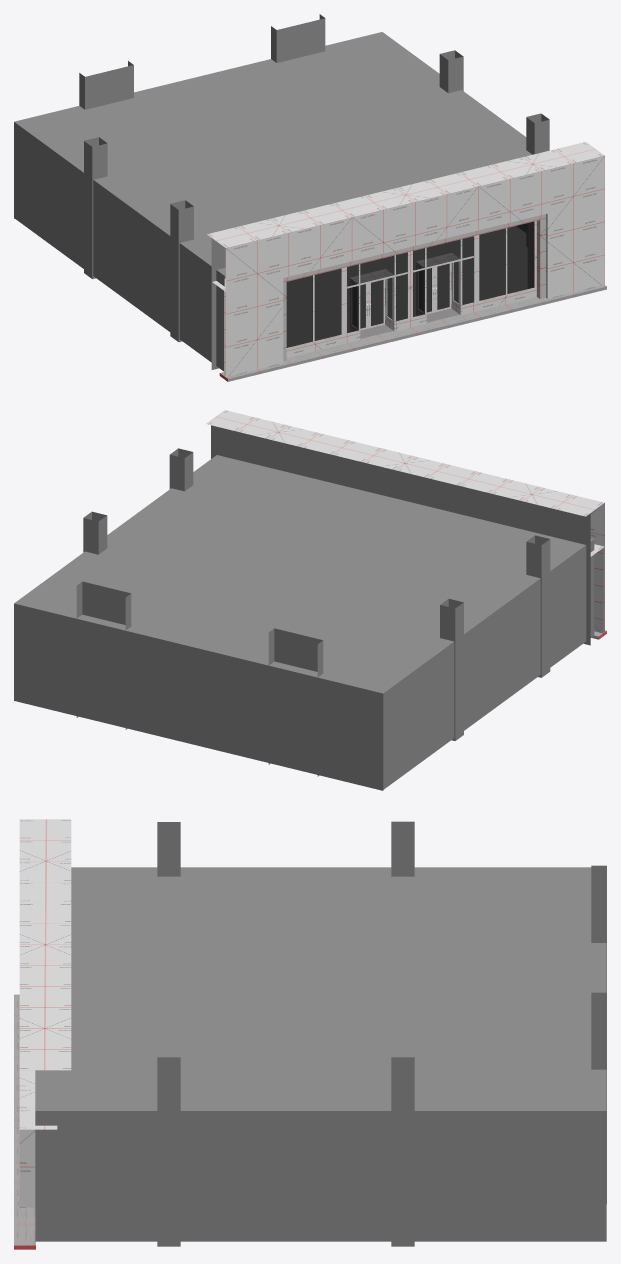
Rendered from B_Shop_02_a.FBX.
3 views of the same model, one above another, from view 1: azimuth 30°, elevation 25°; view 2: azimuth 150°, elevation 25°; view 3: azimuth 270°, elevation 25° (orthographic). The views are drawn at different scales.
Visible parts, largest first — view 1: floor_01b, B_02_3x_d, windows_02a, floor_01b_extra, B_02_border_b, d4, d2; view 2: floor_01b, B_02_3x_d, floor_01b_extra; view 3: floor_01b, B_02_3x_d, floor_01b_extra, B_02_border_b.
Boxes of the visible parts, x1=… form: floor_01b: x1=14, y1=32, x2=532, y2=371; B_02_3x_d: x1=207, y1=142, x2=604, y2=377; windows_02a: x1=286, y1=221, x2=536, y2=357; floor_01b_extra: x1=79, y1=14, x2=549, y2=342; B_02_border_b: x1=219, y1=285, x2=606, y2=381; d4: x1=434, y1=263, x2=451, y2=312; d2: x1=368, y1=279, x2=385, y2=328; floor_01b: x1=14, y1=455, x2=594, y2=790; B_02_3x_d: x1=206, y1=410, x2=604, y2=645; floor_01b_extra: x1=76, y1=448, x2=550, y2=776; floor_01b: x1=35, y1=867, x2=606, y2=1241; B_02_3x_d: x1=19, y1=819, x2=71, y2=1207; floor_01b_extra: x1=157, y1=821, x2=606, y2=1246; B_02_border_b: x1=14, y1=994, x2=35, y2=1249.
Bounding box in the file's own units: 60 × 20 × 59.93.
